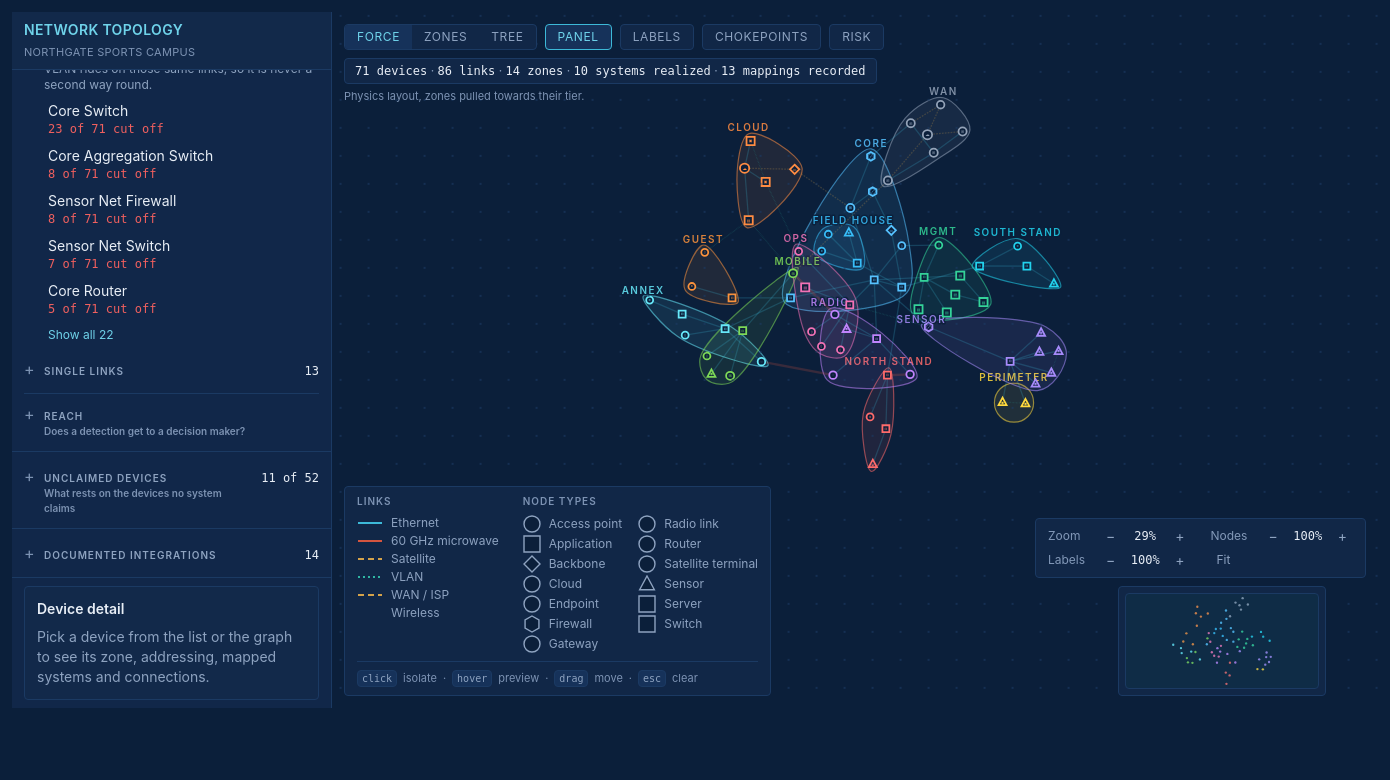
Test: Unclaimed devices › opens a load-bearing switch onto what rests on it
This screenshot has width=1390, height=780.
(page scrolled)
Step 1. Click the button that starts with "Unclaimed devices" → (172, 490), box [24,460,319,520]
(page scrolled)
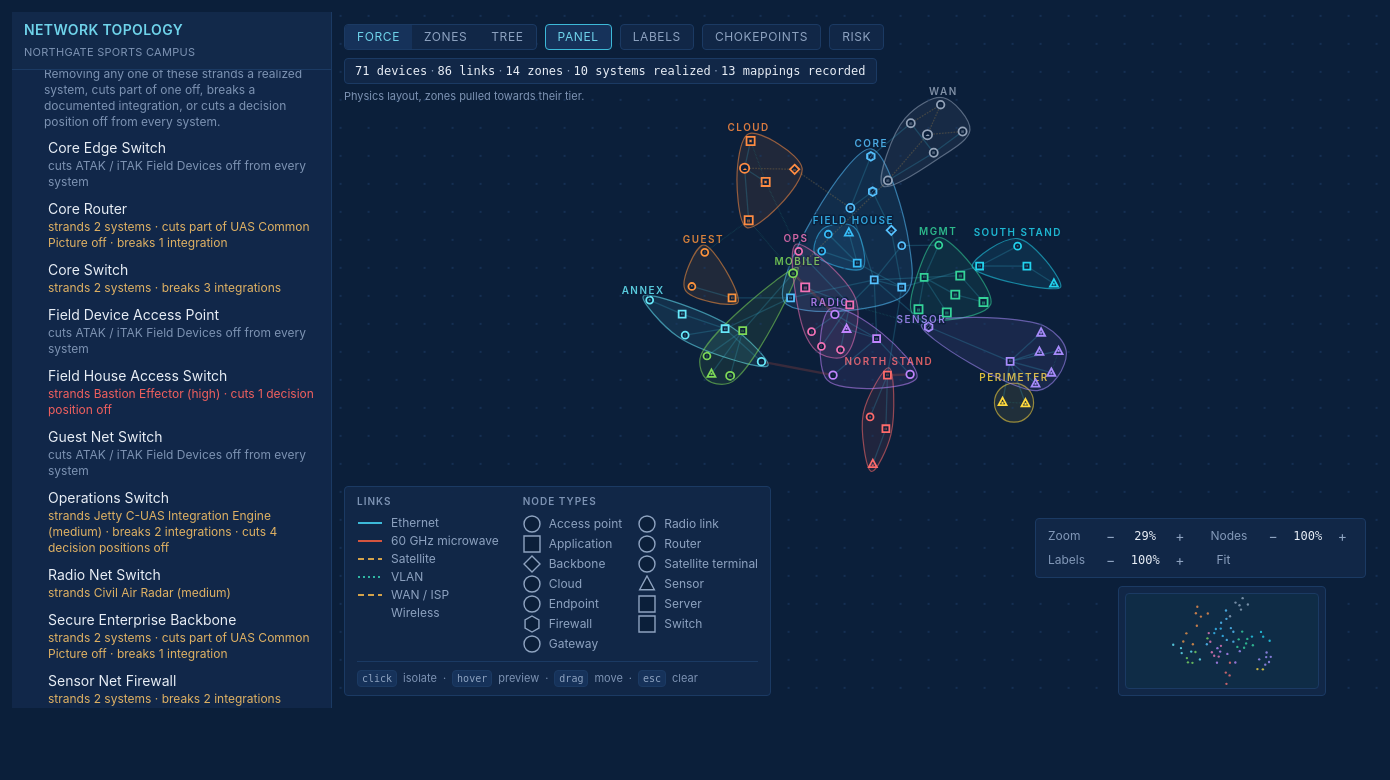
Step 2. Click the button "Field House Access Switch" → (182, 392), box [44,362,319,422]
(page scrolled)
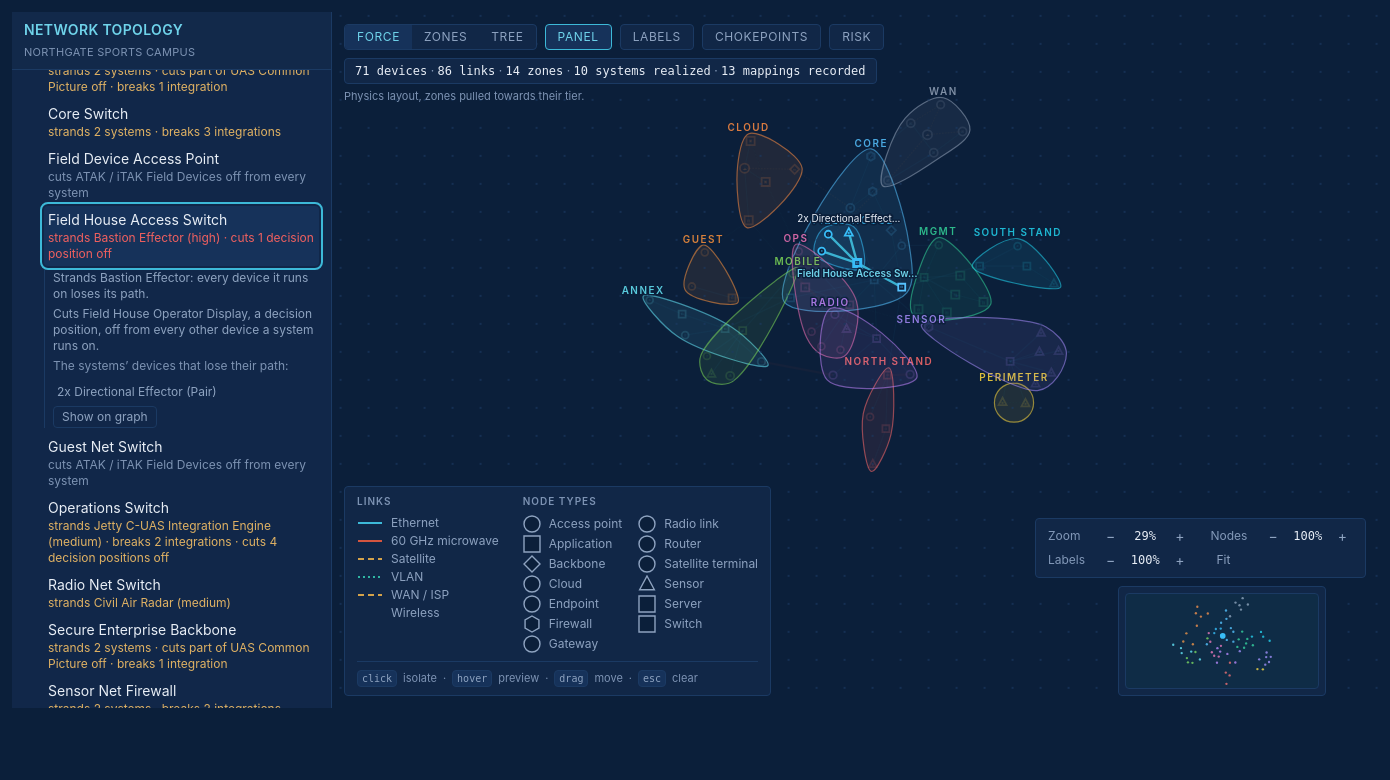
Check: the list item "Strands Bastion Effector: every device it runs on loses its path" is shown, box [53,270,308,301]
Check: the button "2x Directional Effector (Pair)" is shown, box [53,382,319,402]
